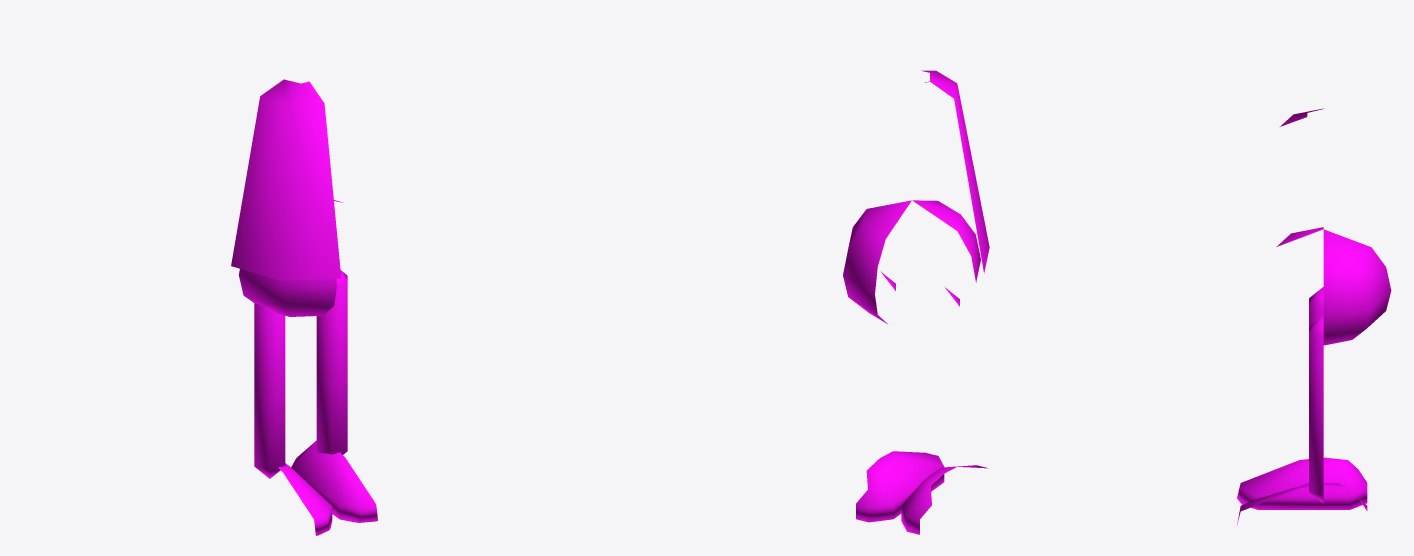
The model's file is ava_bodyA3__ava_bodyA3.glb.
3 renders of one model, left to right at view 1: azimuth 30°, elevation 25°; view 2: azimuth 150°, elevation 25°; view 3: azimuth 270°, elevation 25°, orthographic. The views are drawn at different scales.
Visible parts, largest first — view 1: polygon0; view 2: polygon0; view 3: polygon0.
Part boxes in pixels (left/top/right/bottom): polygon0: left=231, top=79, right=377, bottom=535; polygon0: left=843, top=70, right=989, bottom=534; polygon0: left=1237, top=108, right=1391, bottom=525.
Size of the model in its own units: 13.67 by 11 by 3.63.
1 material, 1 textured.
